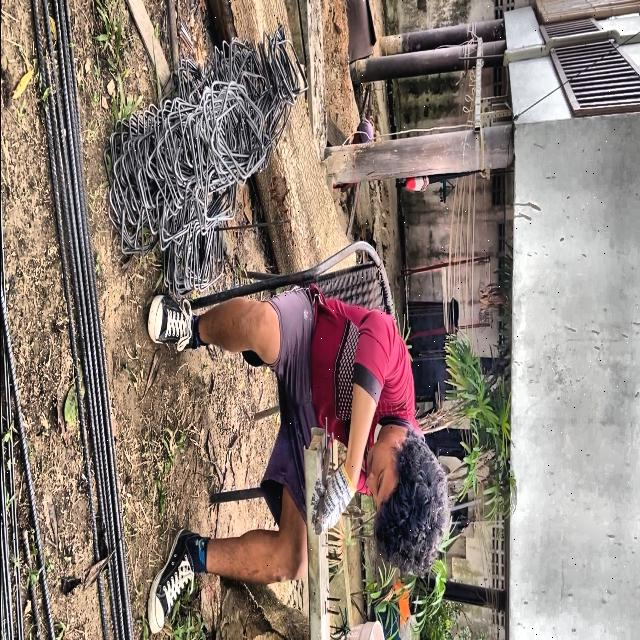gloved: (303, 462, 359, 548)
